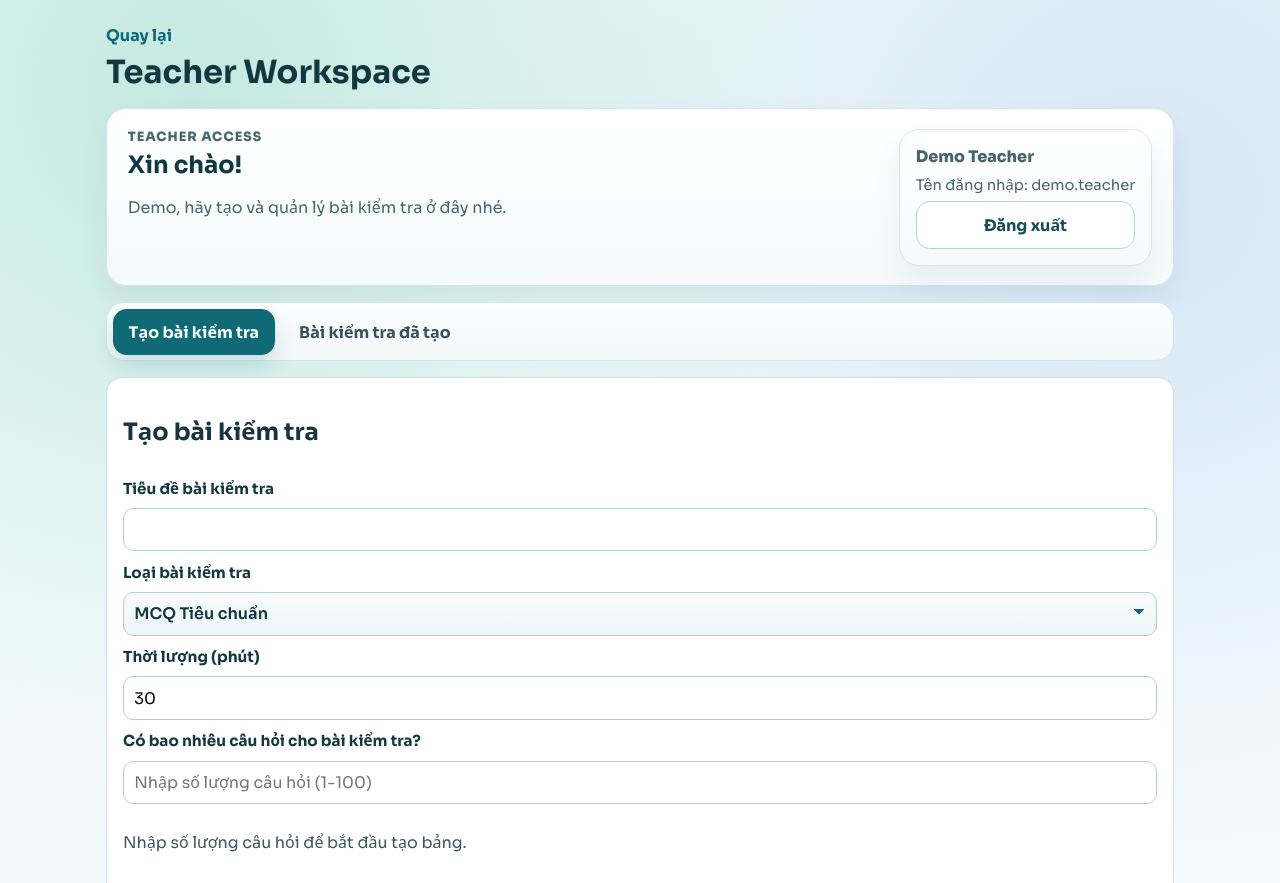
Scenario: TeacherPageComponent › shows a styled delete confirmation popup before removing a test
This screenshot has width=1280, height=883.
Click the tab with id "created-tab" at coordinates (375, 332), box [283,309,467,355]
(page scrolled)
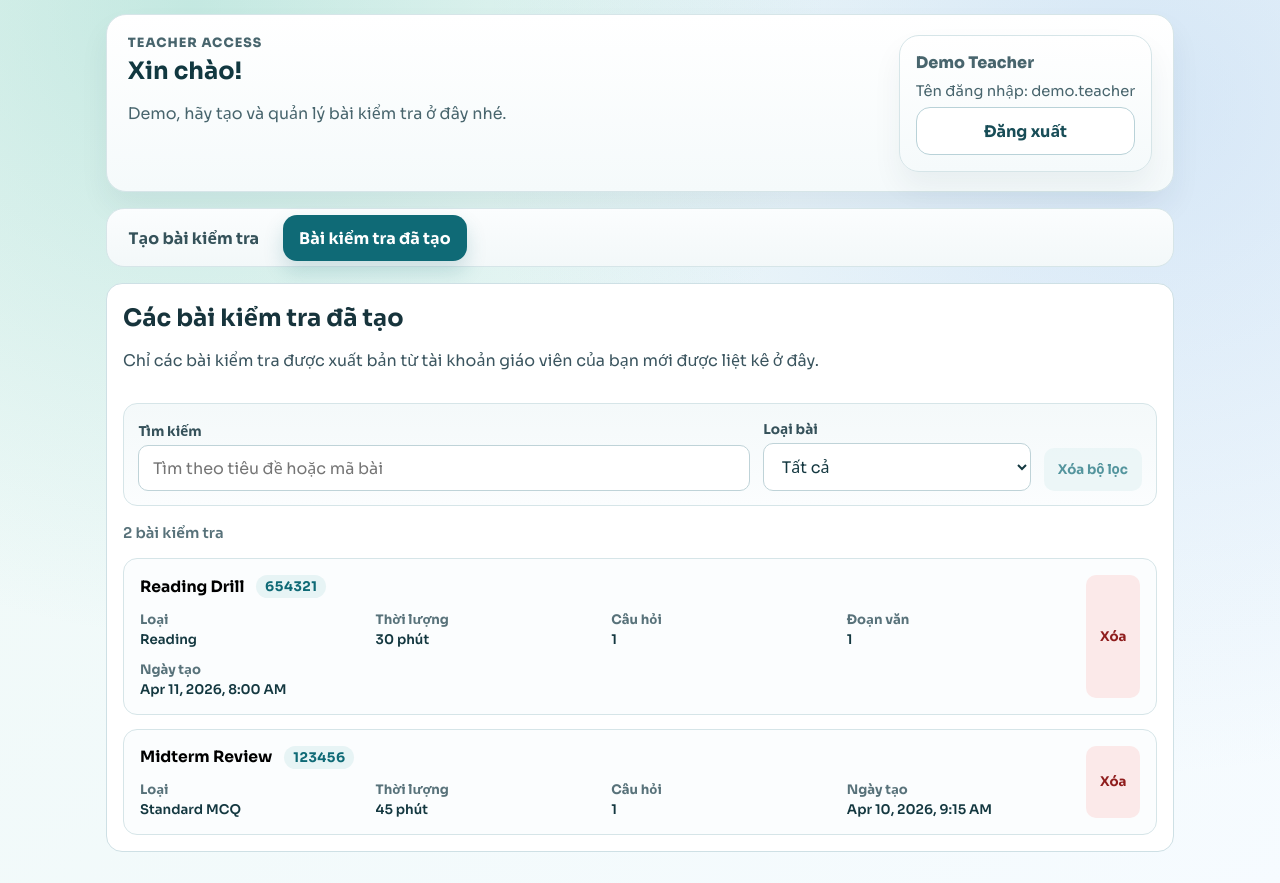
Click the button with aria-label "Delete test 123456" at coordinates (1113, 782), box [1086,746,1140,818]
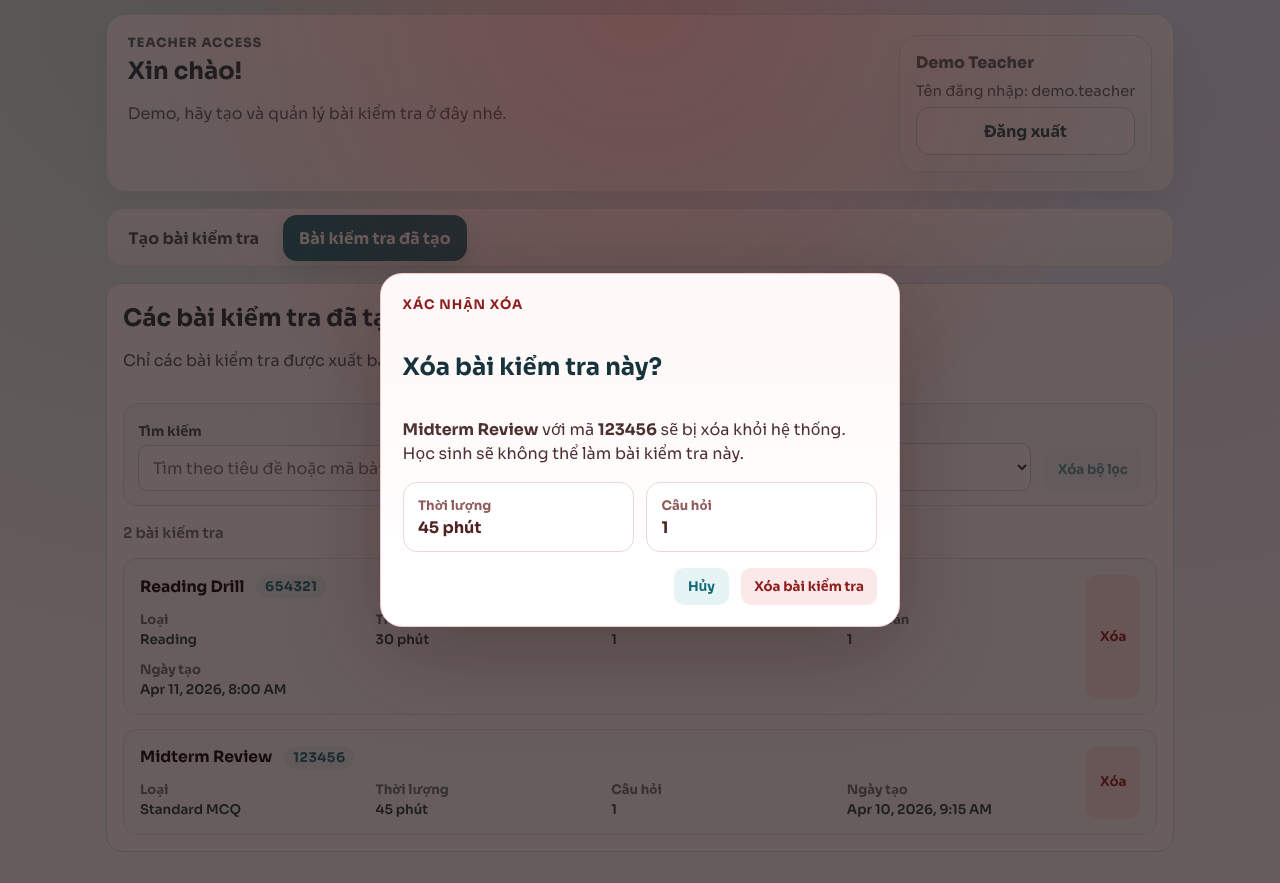
Now the dialog with class "confirm-card" is shown, box [380,272,900,628]
Now the text "Xóa bài kiểm tra này?" is shown, box [403,352,662,382]
Now the text "Học sinh sẽ không thể làm bài kiểm tra này." is shown, box [403,419,846,464]
